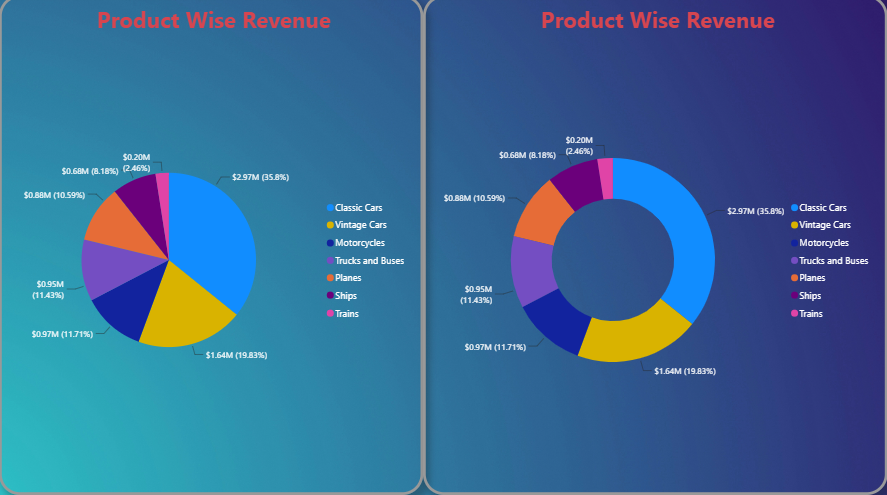

Layout of this report page (visuals, bound fields, positions):
{"tool":"powerbi","page":{"name":"Pie Chart / Donut Chart","canvas":[1280,720],"ordinal":10},"visuals":[{"type":"pieChart","title":"Product Wise Revenue","fields":{"Category":["Vehicle Orders.PRODUCTLINE"],"Y":["Measure Table.Revenue"]},"box":[0,0,611.1,720],"z":0},{"type":"donutChart","title":"Product Wise Revenue","fields":{"Category":["Vehicle Orders.PRODUCTLINE"],"Y":["Measure Table.Revenue"]},"box":[611.1,0,668.9,720],"z":1000}]}

Visuals, with their boxes in screenshot pixels (x1, y1, x2, y2), scaled from the page's 1280x720 canvas onto the 887x495 screenshot:
"Product Wise Revenue" pieChart: Rect(0, 0, 423, 494)
"Product Wise Revenue" donutChart: Rect(423, 0, 886, 494)
